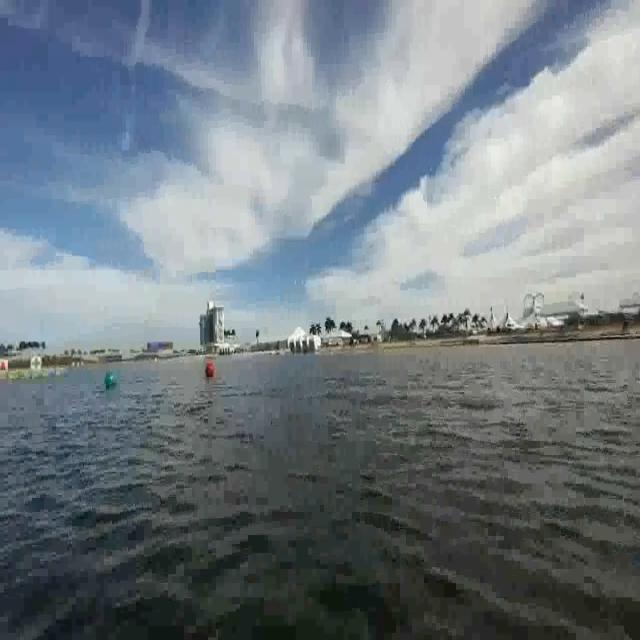green-buoy: (105, 374, 117, 390)
red-buoy: (204, 359, 217, 379)
